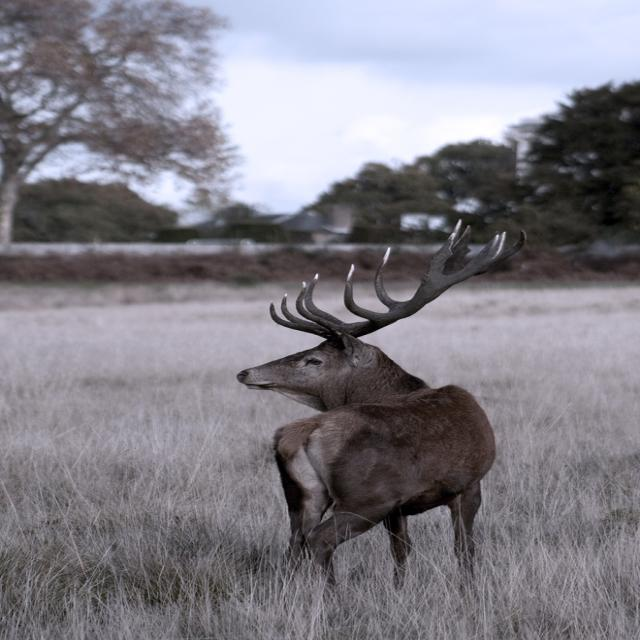deer: (128, 223, 602, 565)
